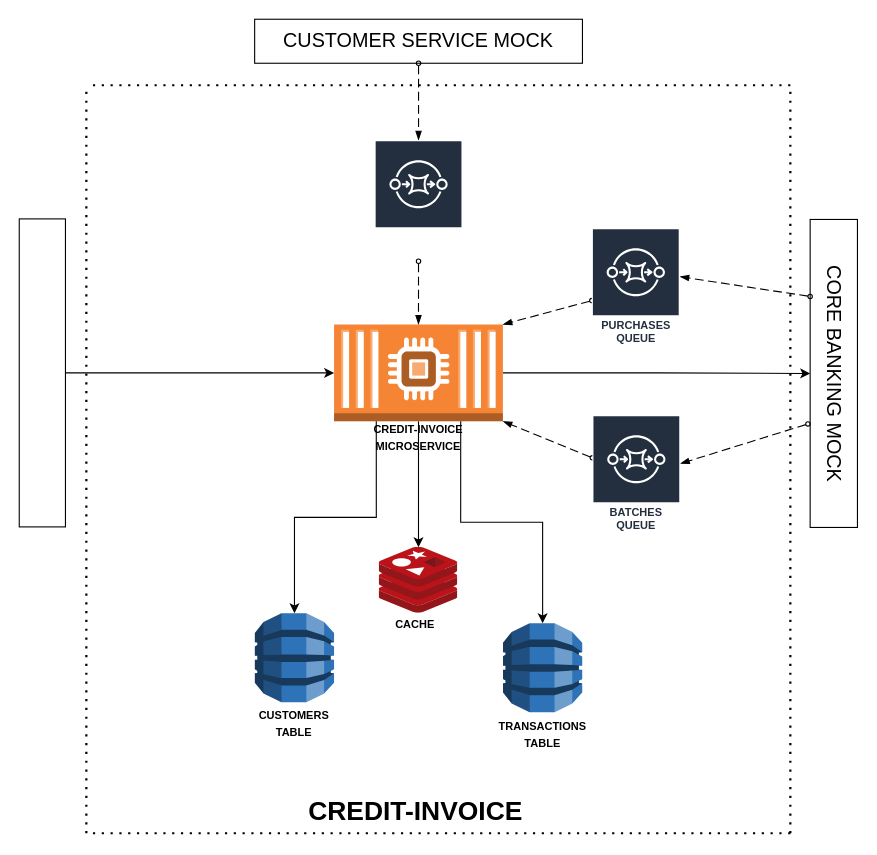
Image size: 877x855. Some labels were removed from this diagram. The centre of each missing label's shape, as x and y in pixels:
CUSTOMERS QUEUE: (418,200)
FRONTEND API: (41,372)
